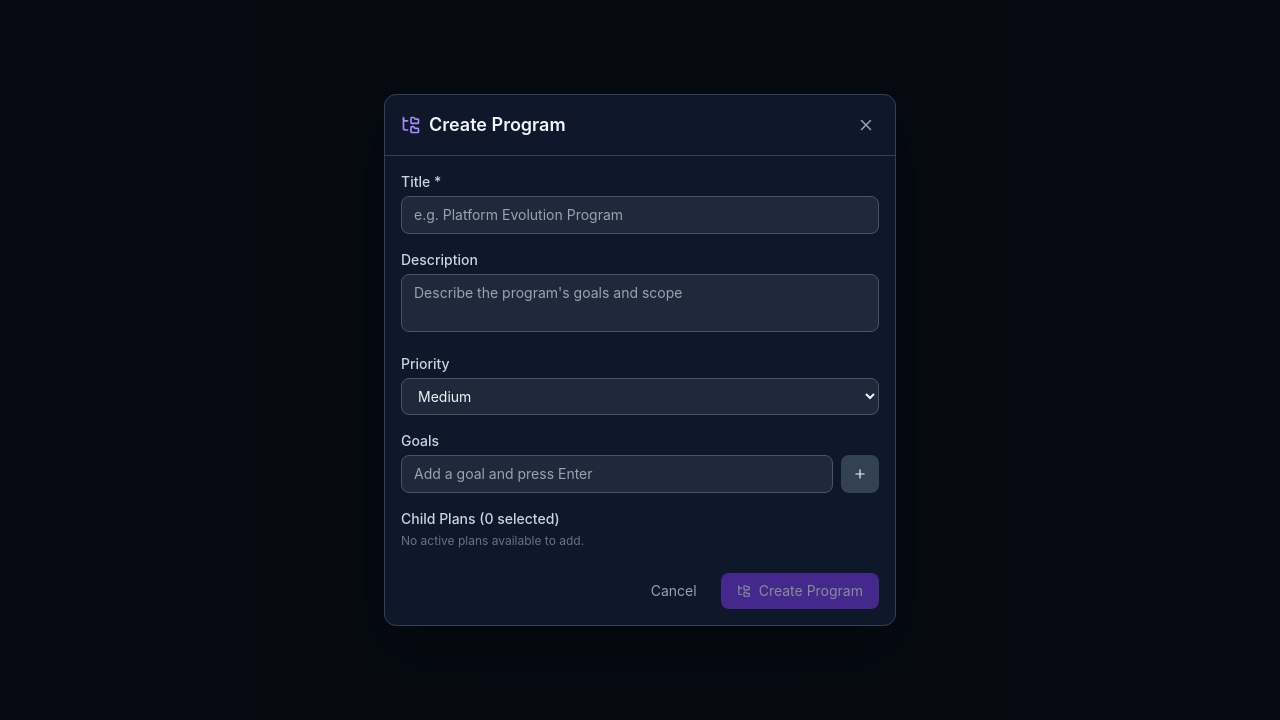
Test: ProgramCreateForm › goal management › adds a goal when plus button is clicked
Type "Ship MVP" into the field with placeholder "Add a goal and press Enter".
click(617, 474); type("Ship MVP")  # box [401,455,833,493]
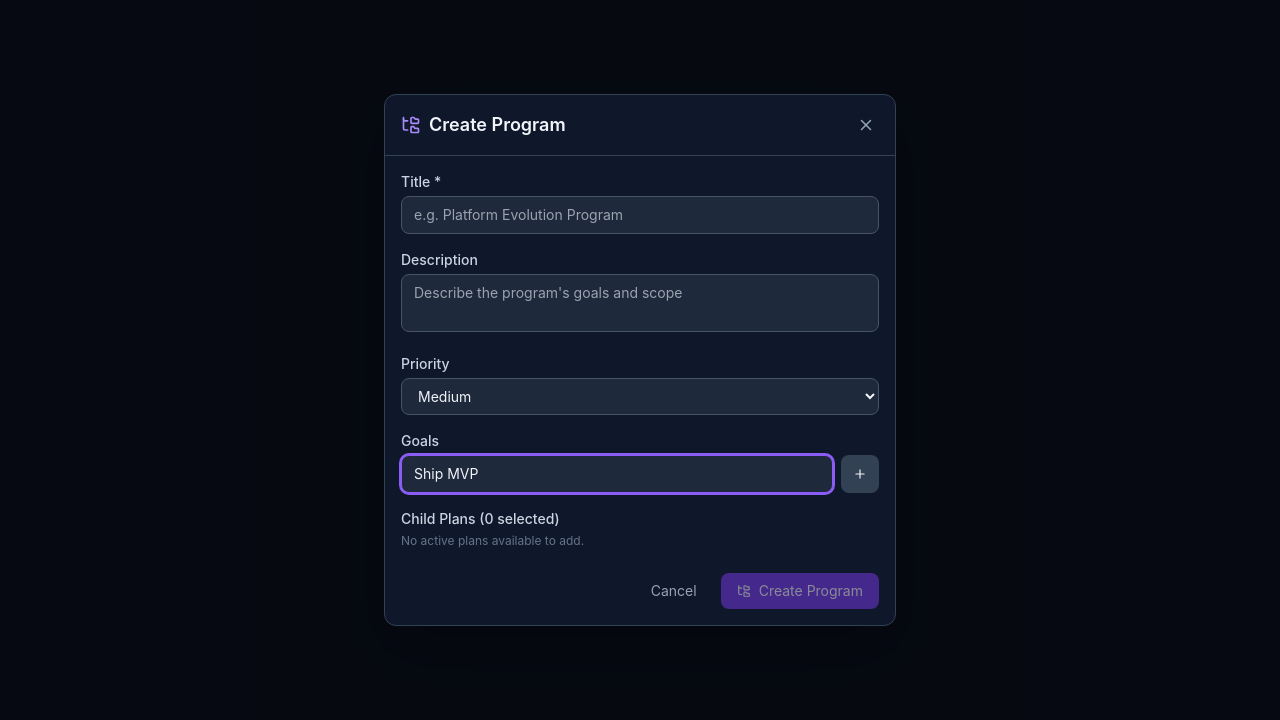
Click the 2nd button.
click(860, 474)  # box [841,455,879,493]
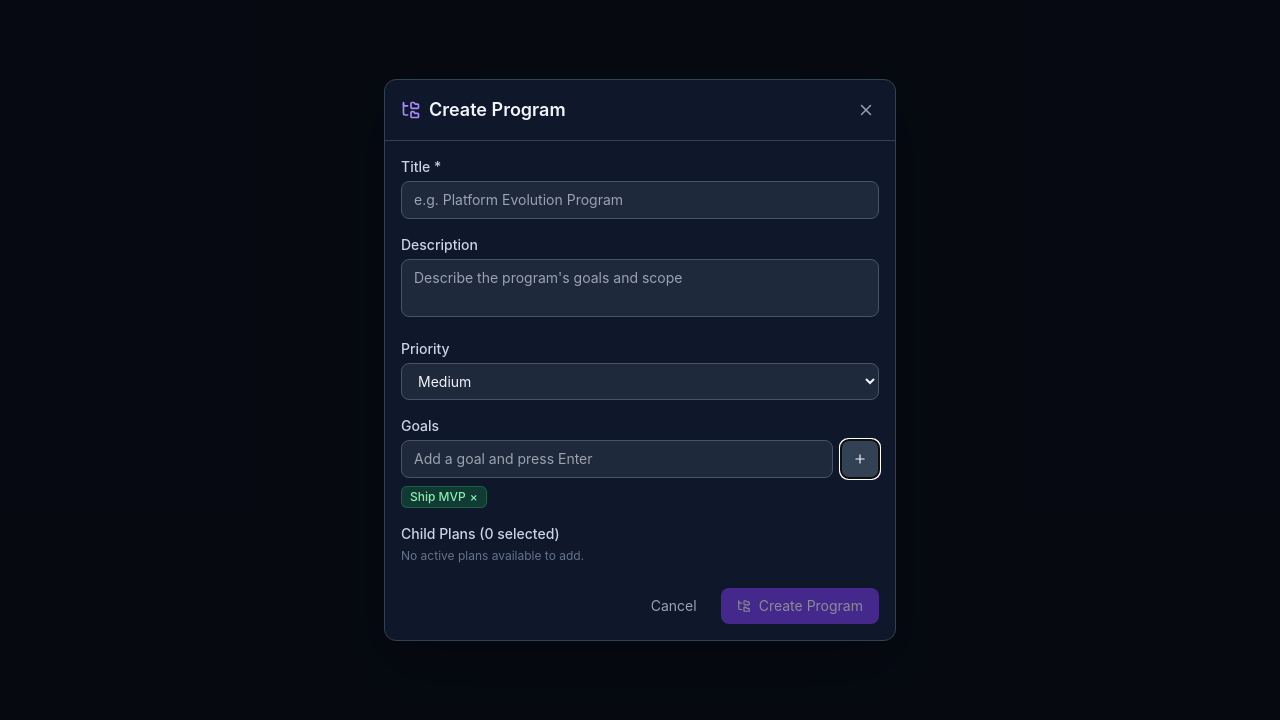
Expected: the text "Ship MVP" is shown, [410,489,466,504]
